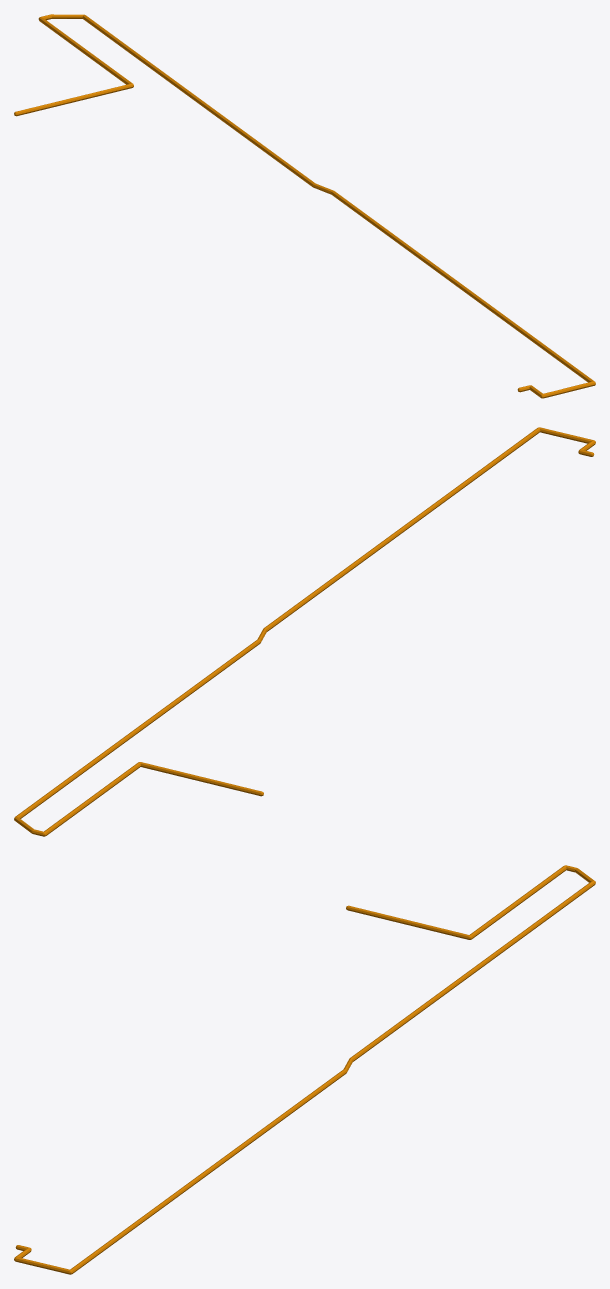
3 renders of one model, top to bottom at view 1: azimuth 30°, elevation 25°; view 2: azimuth 150°, elevation 25°; view 3: azimuth 330°, elevation 25°, orthographic. The views are drawn at different scales.
Size of the model in its own units: 766 by 20 by 4241.
